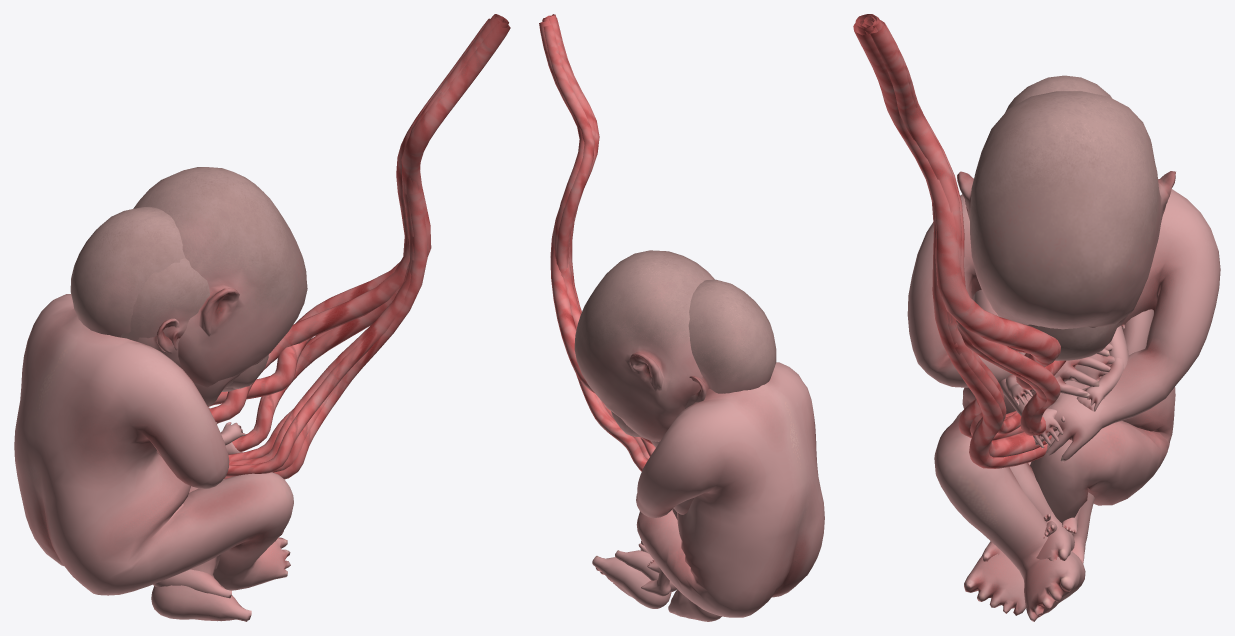
The model's file is Fetos.fbx.
3 views of the same model, side by side, from view 1: azimuth 30°, elevation 25°; view 2: azimuth 150°, elevation 25°; view 3: azimuth 270°, elevation 25° (orthographic). The views are drawn at different scales.
Parts seen in each view (by area): view 1: feto_9, feto_8, feto_7, feto_1, feto_2, feto_5, feto_4, feto_6, feto_3; view 2: feto_9, feto_8, feto_3, feto_1, feto_2, feto_5, feto_7, feto_6; view 3: feto_9, feto_1, feto_7, feto_8, feto_2, feto_6, feto_3, feto_5, feto_4.
Part boxes in pixels (x1,y1,x2,y2): feto_9: [14, 167, 307, 621]; feto_8: [70, 14, 504, 598]; feto_7: [121, 15, 508, 479]; feto_1: [208, 23, 510, 406]; feto_2: [209, 239, 409, 423]; feto_5: [216, 14, 506, 464]; feto_4: [222, 26, 507, 451]; feto_6: [194, 176, 414, 472]; feto_3: [232, 18, 489, 443]; feto_9: [574, 250, 824, 621]; feto_8: [542, 16, 776, 592]; feto_3: [543, 24, 647, 471]; feto_1: [550, 17, 652, 444]; feto_2: [539, 21, 584, 329]; feto_5: [548, 15, 640, 437]; feto_7: [543, 14, 670, 596]; feto_6: [542, 21, 677, 573]; feto_9: [865, 19, 1220, 621]; feto_1: [853, 19, 1065, 389]; feto_7: [855, 15, 1128, 563]; feto_8: [864, 15, 1153, 561]; feto_2: [862, 18, 1060, 358]; feto_6: [858, 17, 1123, 533]; feto_3: [882, 21, 1060, 434]; feto_5: [858, 14, 1118, 440]; feto_4: [857, 20, 1124, 435].
Size of the model in its own units: 4897 by 7146 by 3318.
